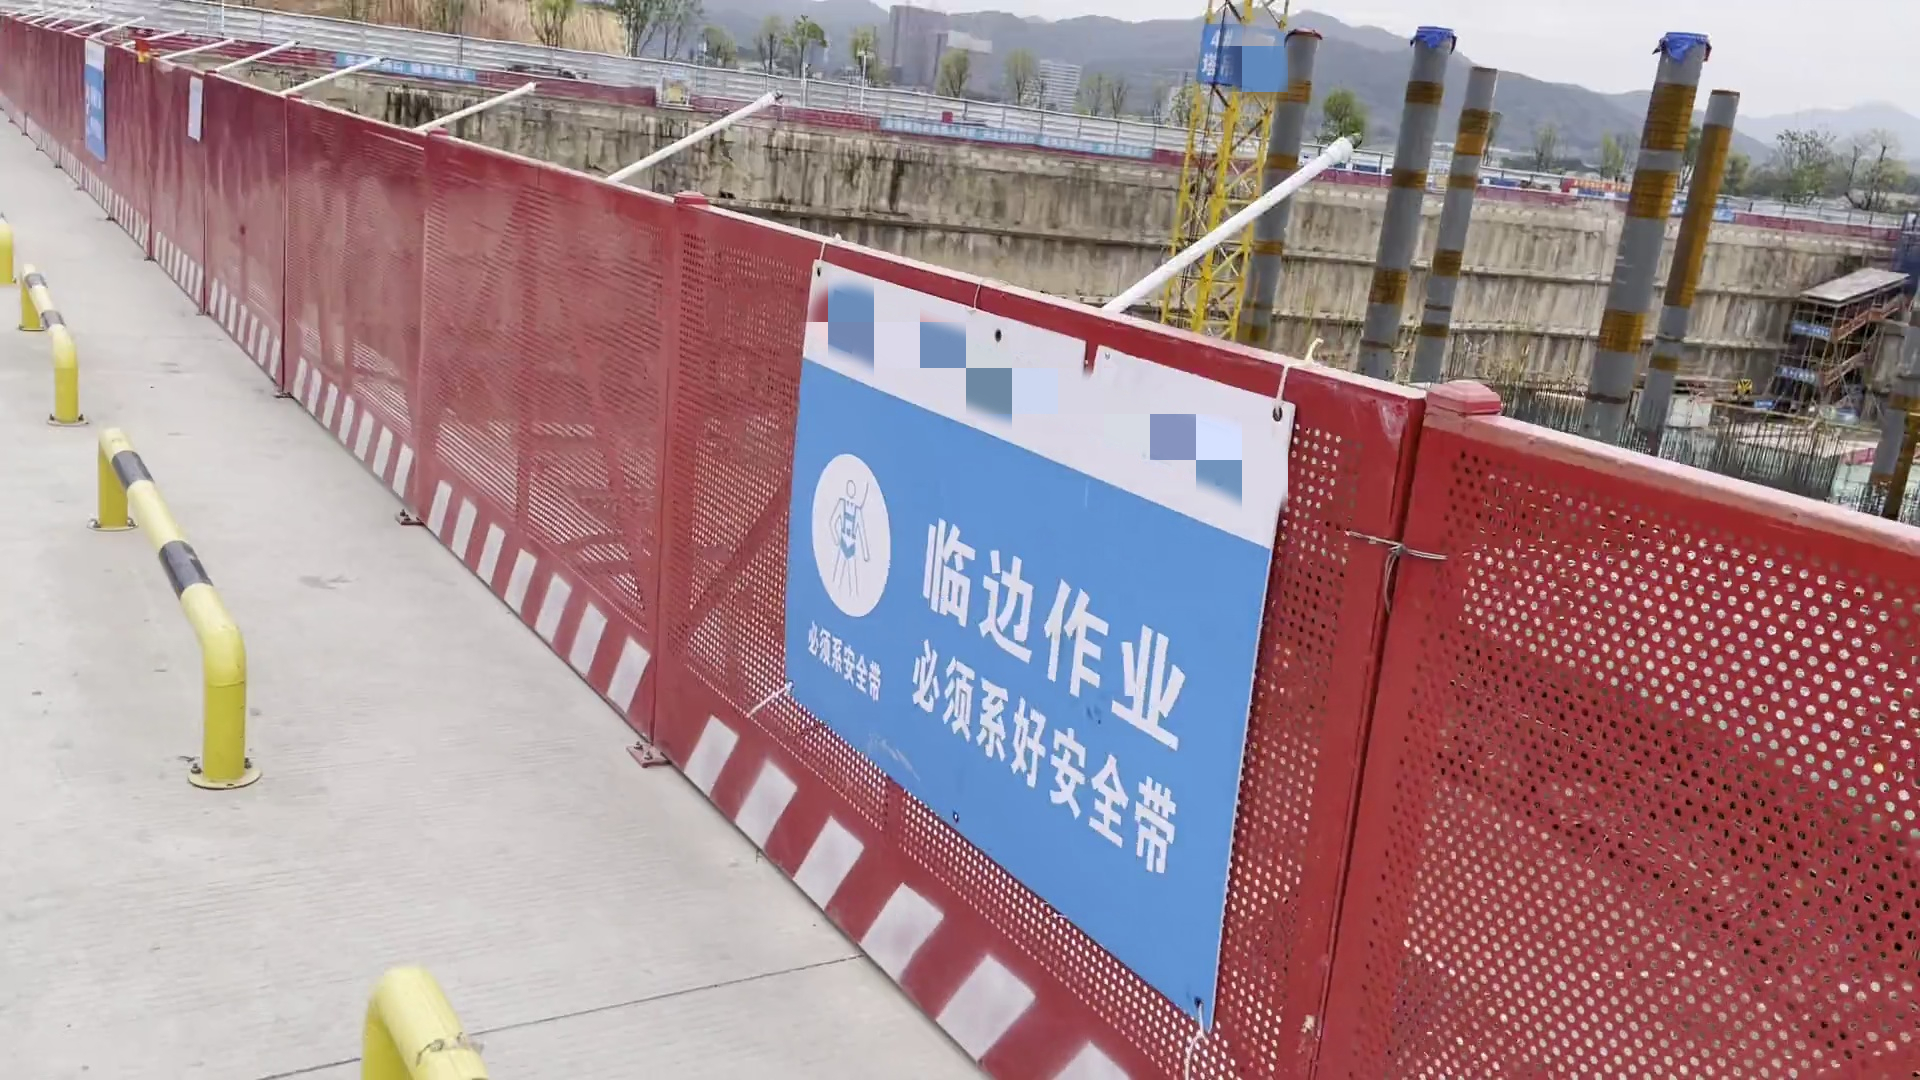fence: (1, 16, 1917, 1080), (148, 24, 1907, 237)
